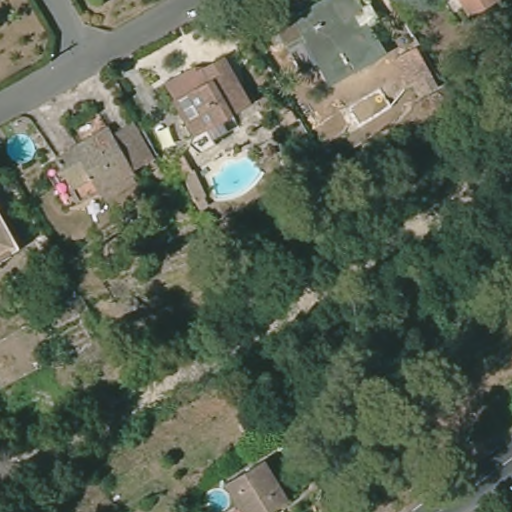pool: (208, 152, 267, 202), (4, 126, 41, 166), (200, 486, 238, 508)
